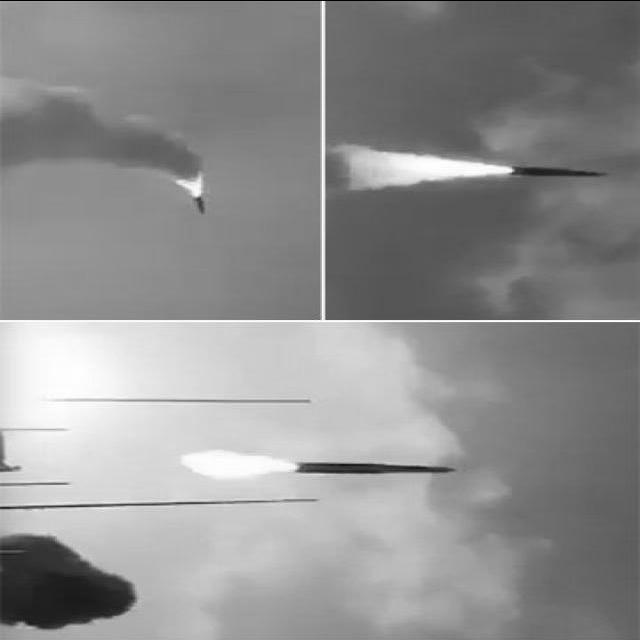missile: (292, 452, 462, 481), (499, 162, 618, 182), (192, 193, 210, 215)
